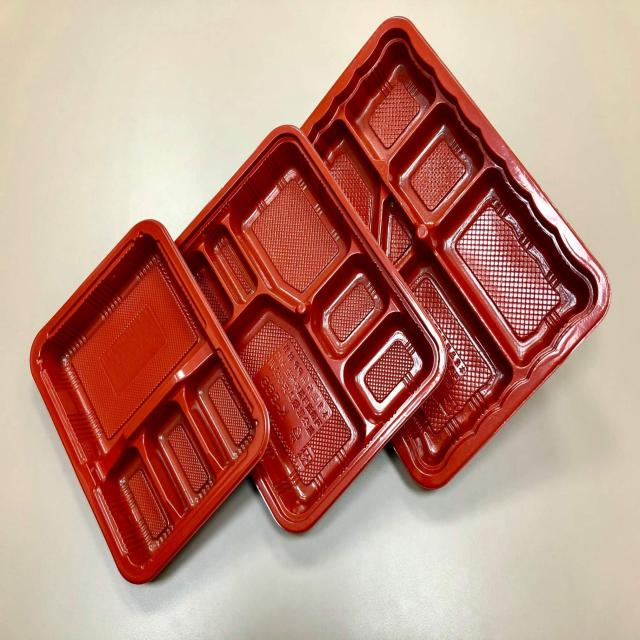plastic: (26, 17, 606, 586)
